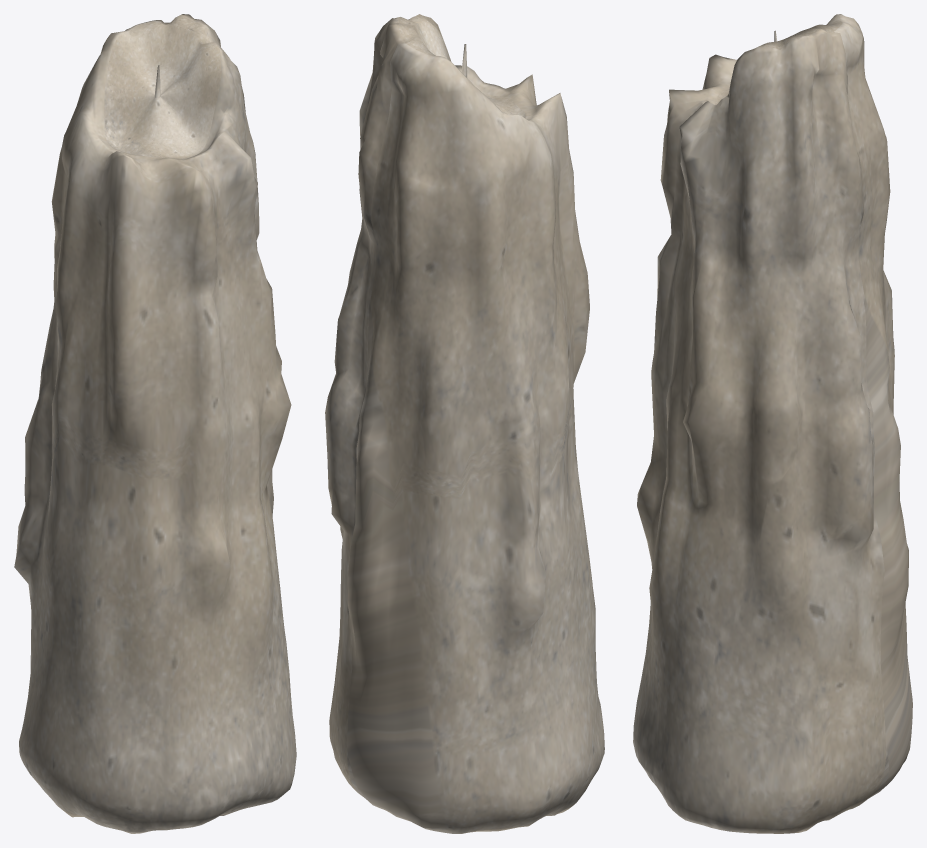
Rendered from CandleNew.fbx.
3 renders of one model, left to right at view 1: azimuth 30°, elevation 25°; view 2: azimuth 150°, elevation 25°; view 3: azimuth 270°, elevation 25°, orthographic. The views are drawn at different scales.
Visible parts, largest first — view 1: pCylinder2; view 2: pCylinder2; view 3: pCylinder2.
Part boxes in pixels (<box>): pCylinder2: <box>14,14,296,833</box>; pCylinder2: <box>325,14,604,833</box>; pCylinder2: <box>633,14,912,833</box>.
Bounding box in the file's own units: 1.13 × 3.38 × 1.1.
Materials: 1 (1 with a texture image).
